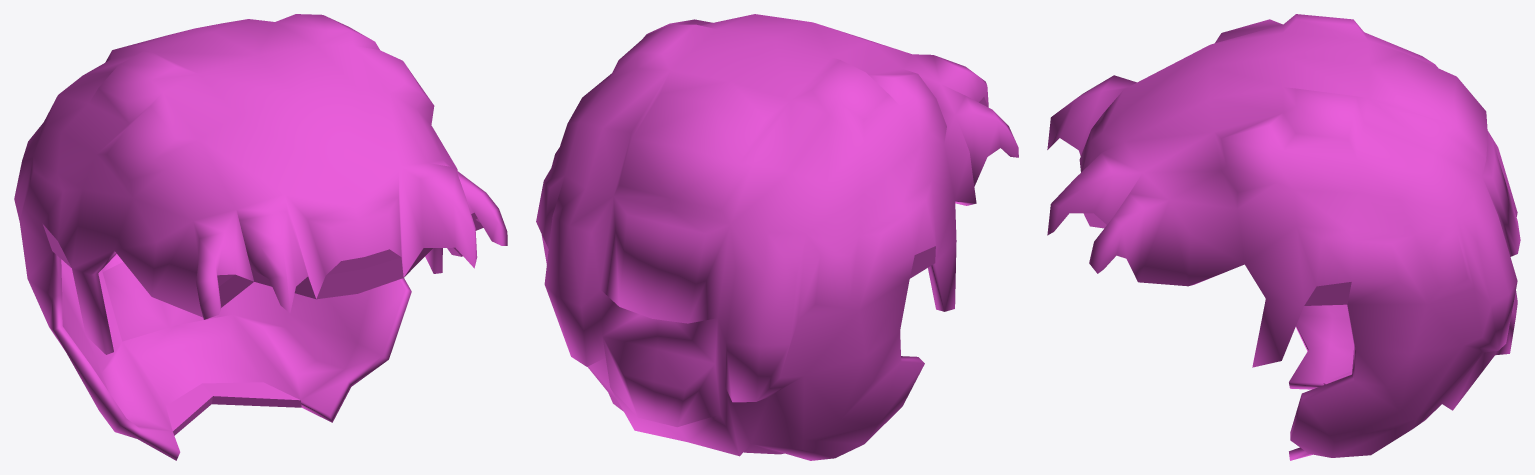
File: character hair 02.fbx
3 views of the same model, side by side, from view 1: azimuth 30°, elevation 25°; view 2: azimuth 150°, elevation 25°; view 3: azimuth 270°, elevation 25° (orthographic). The views are drawn at different scales.
Visible parts, largest first — view 1: hair02; view 2: hair02; view 3: hair02.
Part boxes in pixels (x1,y1,x2,y2): hair02: (14, 14, 507, 460); hair02: (536, 14, 1018, 460); hair02: (1047, 14, 1520, 460).
Size of the model in its own units: 0.4091 by 0.4186 by 0.4843.
